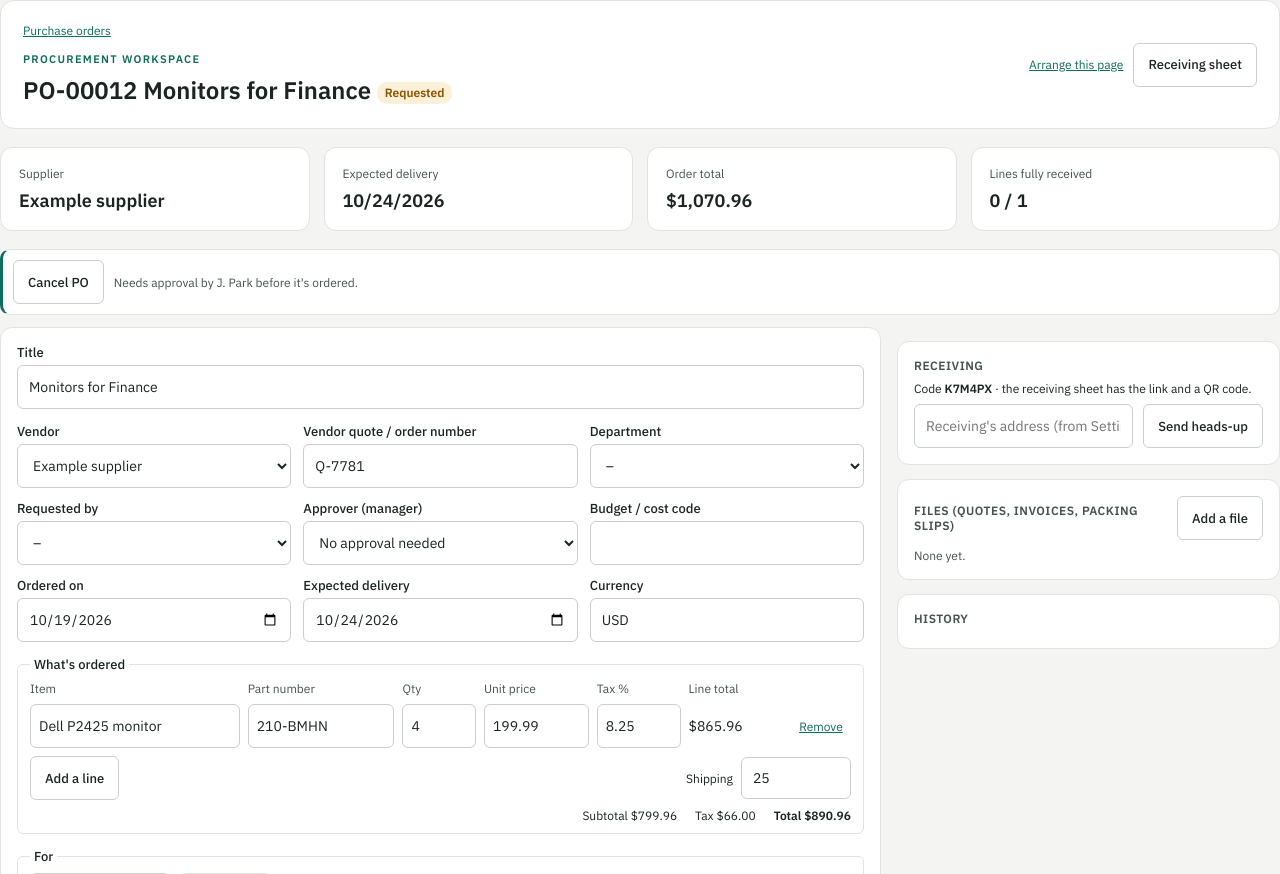
Test case: order summary preserves approval restrictions and existing status actions
The width and height of the screenshot is (1280, 874).
expect the element named "Order summary" shows "Example supplier": met, box 19,189 -> 165,212
Step 1. Click the button "Cancel PO" → coordinates (58, 282), box 13,260 -> 104,304
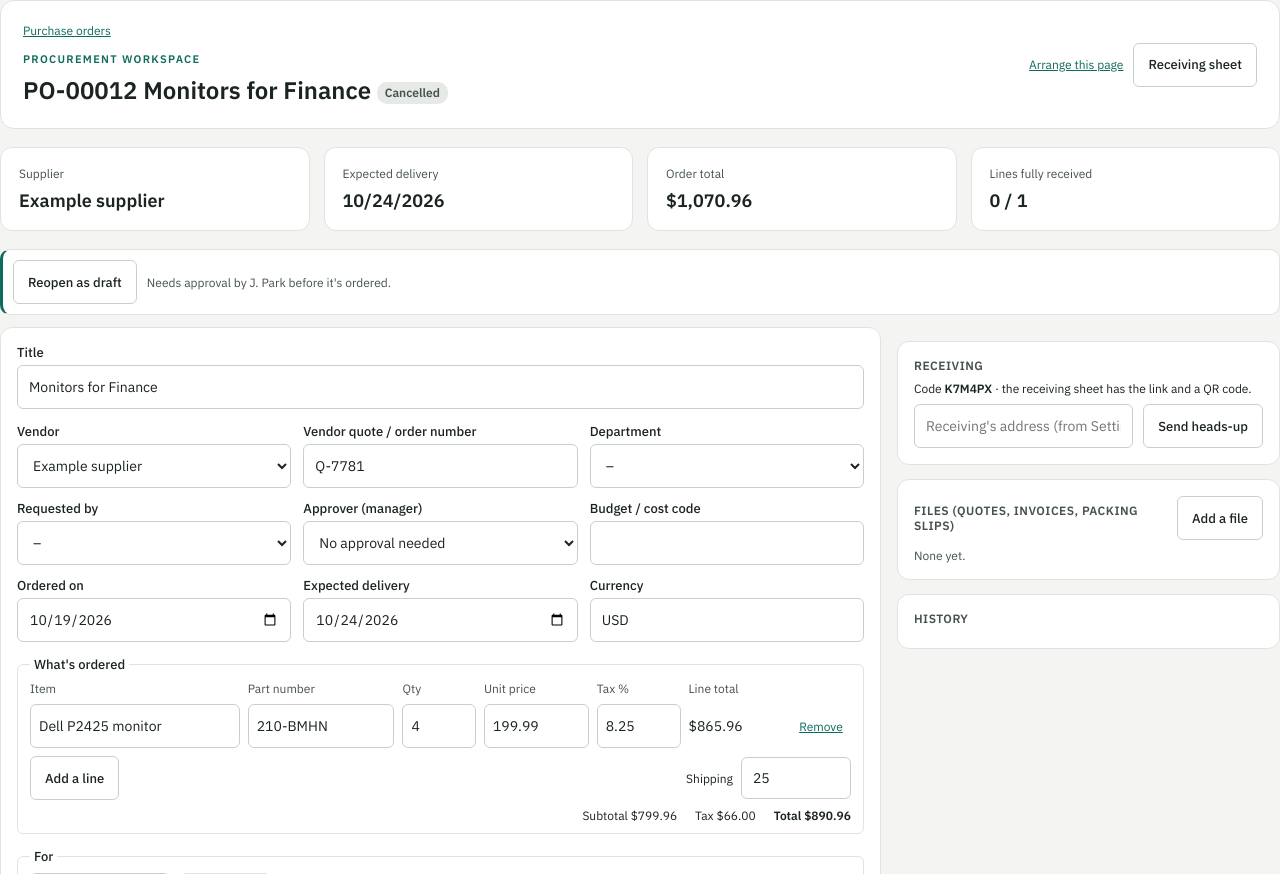
expect the button "Reopen as draft" is shown: met, box 13,260 -> 137,304
